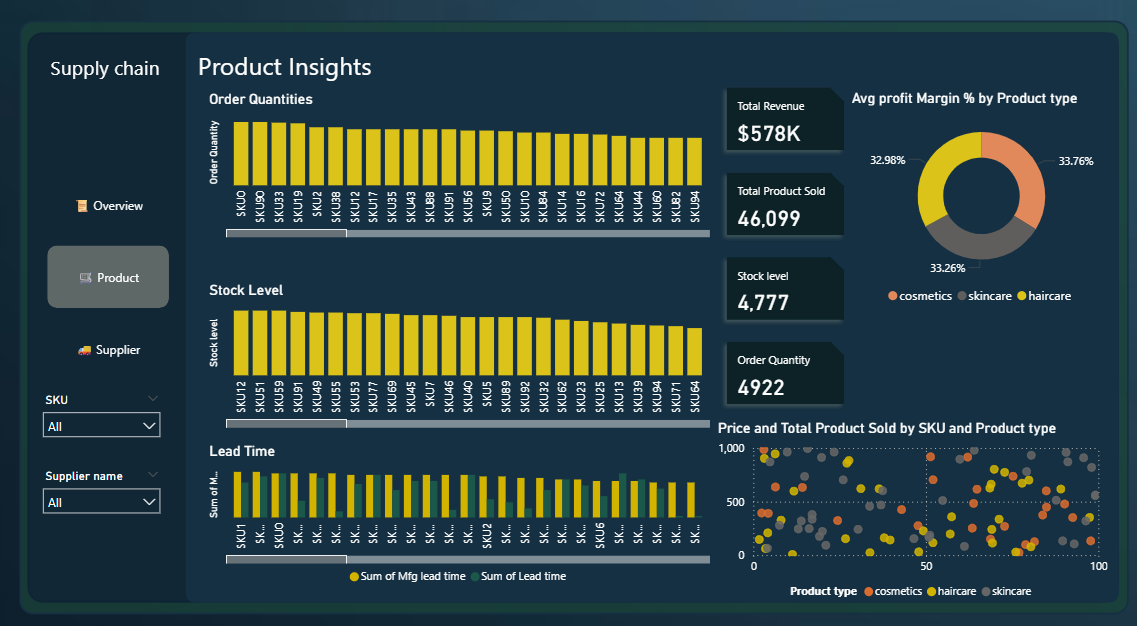

This screenshot's page, from the dashboard's own definition file:
{"tool":"powerbi","page":{"name":"🛒   Product","canvas":[1280,720],"ordinal":1},"visuals":[{"type":"columnChart","title":"Order Quantities","fields":{"Y":["_Measures.Order Quantity"],"Category":["supply_chain_data.SKU"]},"box":[234.6,108.4,559.9,166],"z":0},{"type":"pageNavigator","box":[61.8,198.9,134.5,229.2],"z":0,"group":"g1"},{"type":"columnChart","title":"Stock Level","fields":{"Category":["supply_chain_data.SKU"],"Y":["_Measures.Stock level"]},"box":[234.6,318.4,559.9,164.7],"z":1000},{"type":"slicer","fields":{"Values":["supply_chain_data.SKU"]},"box":[46.7,435,149.6,71.4],"z":1000,"group":"g1"},{"type":"slicer","fields":{"Values":["supply_chain_data.Supplier name"]},"box":[46.7,518.7,149.6,71.4],"z":2000,"group":"g1"},{"type":"clusteredColumnChart","title":"Lead Time","fields":{"Category":["supply_chain_data.SKU"],"Y":["Sum(supply_chain_data.Mfg lead time)","Sum(supply_chain_data.Lead time)"]},"box":[234.6,495.4,559.9,164.7],"z":2000},{"type":"textbox","box":[60.4,57.6,161.9,82.3],"z":3000,"group":"g1"},{"type":"cardVisual","fields":{"Data":["_Measures.Total Revenue","_Measures.Total Product Sold","_Measures.Stock level","_Measures.Order Quantity"]},"box":[794.5,91.9,155.1,376],"z":3000},{"type":"donutChart","fields":{"Category":["supply_chain_data.Product type"],"Y":["_Measures.Avg profit Margin %"]},"box":[940,107,295,245.6],"z":4000},{"type":"scatterChart","title":"Price and Total Product Sold by SKU and Product type","fields":{"Category":["supply_chain_data.SKU"],"X":["Sum(supply_chain_data.Price)"],"Y":["_Measures.Total Product Sold"],"Series":["supply_chain_data.Product type"]},"box":[793.1,469.3,437.7,207.2],"z":5000},{"type":"textbox","box":[222.3,57.6,452.8,81],"z":6000},{"type":"group","id":"g1","title":"Group 1","box":[46.7,57.6,175.6,532.4],"z":7000}]}

Visuals, with their boxes on the page's 1280x720 design canvas (x1, y1, x2, y2). These are canvas units, not pixel positions in the 1137x626 screenshot, which may show the page scaled, cropped or inside an application window:
"Order Quantities" columnChart: Rect(235, 108, 794, 274)
pageNavigator: Rect(62, 199, 196, 428)
"Stock Level" columnChart: Rect(235, 318, 794, 483)
slicer - supply_chain_data.SKU: Rect(47, 435, 196, 506)
slicer - supply_chain_data.Supplier name: Rect(47, 519, 196, 590)
"Lead Time" clusteredColumnChart: Rect(235, 495, 794, 660)
textbox: Rect(60, 58, 222, 140)
cardVisual - _Measures.Total Revenue x _Measures.Total Product Sold: Rect(794, 92, 950, 468)
donutChart - supply_chain_data.Product type x _Measures.Avg profit Margin %: Rect(940, 107, 1235, 353)
"Price and Total Product Sold by SKU and Product type" scatterChart: Rect(793, 469, 1231, 676)
textbox: Rect(222, 58, 675, 139)
"Group 1" group: Rect(47, 58, 222, 590)
